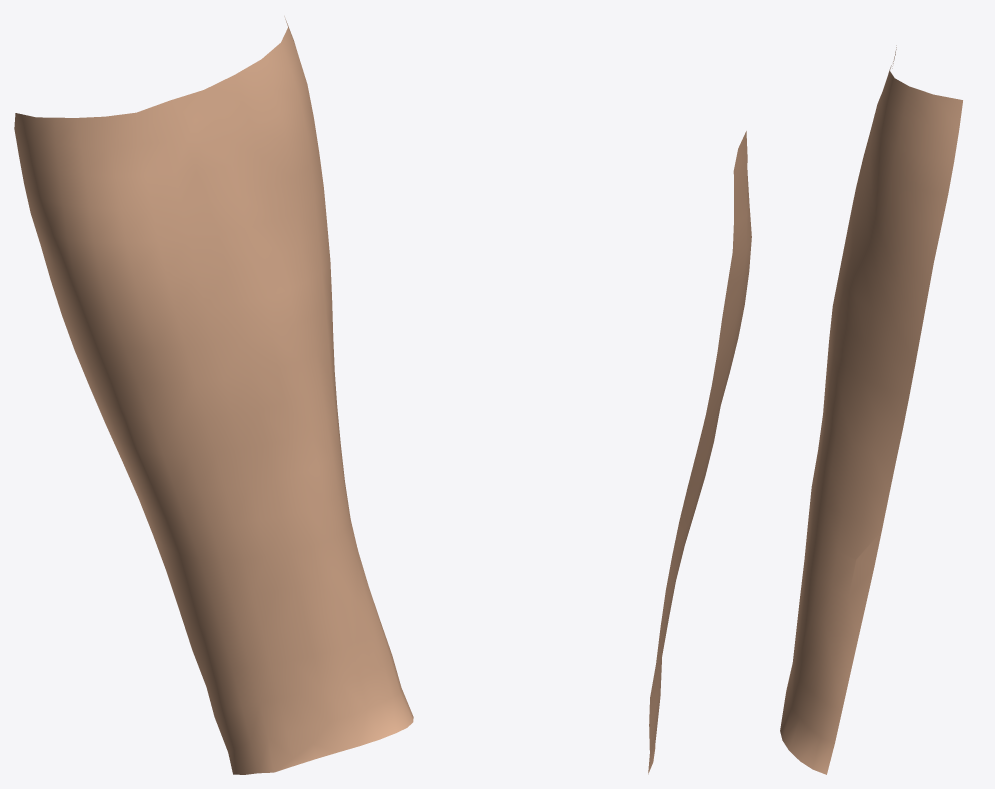
The model's file is anterior-region-of-forearm-l.glb.
3 views of the same model, side by side, from view 1: azimuth 30°, elevation 25°; view 2: azimuth 150°, elevation 25°; view 3: azimuth 270°, elevation 25° (orthographic). The views are drawn at different scales.
Parts seen in each view (by area): view 1: Anterior region of forearm.l; view 2: Anterior region of forearm.l; view 3: Anterior region of forearm.l.
Boxes of the visible parts, <box> form: Anterior region of forearm.l: <box>14,16,413,774</box>; Anterior region of forearm.l: <box>648,131,751,774</box>; Anterior region of forearm.l: <box>780,45,962,774</box>.
Size of the model in its own units: 0.1153 by 0.2361 by 0.0643.
